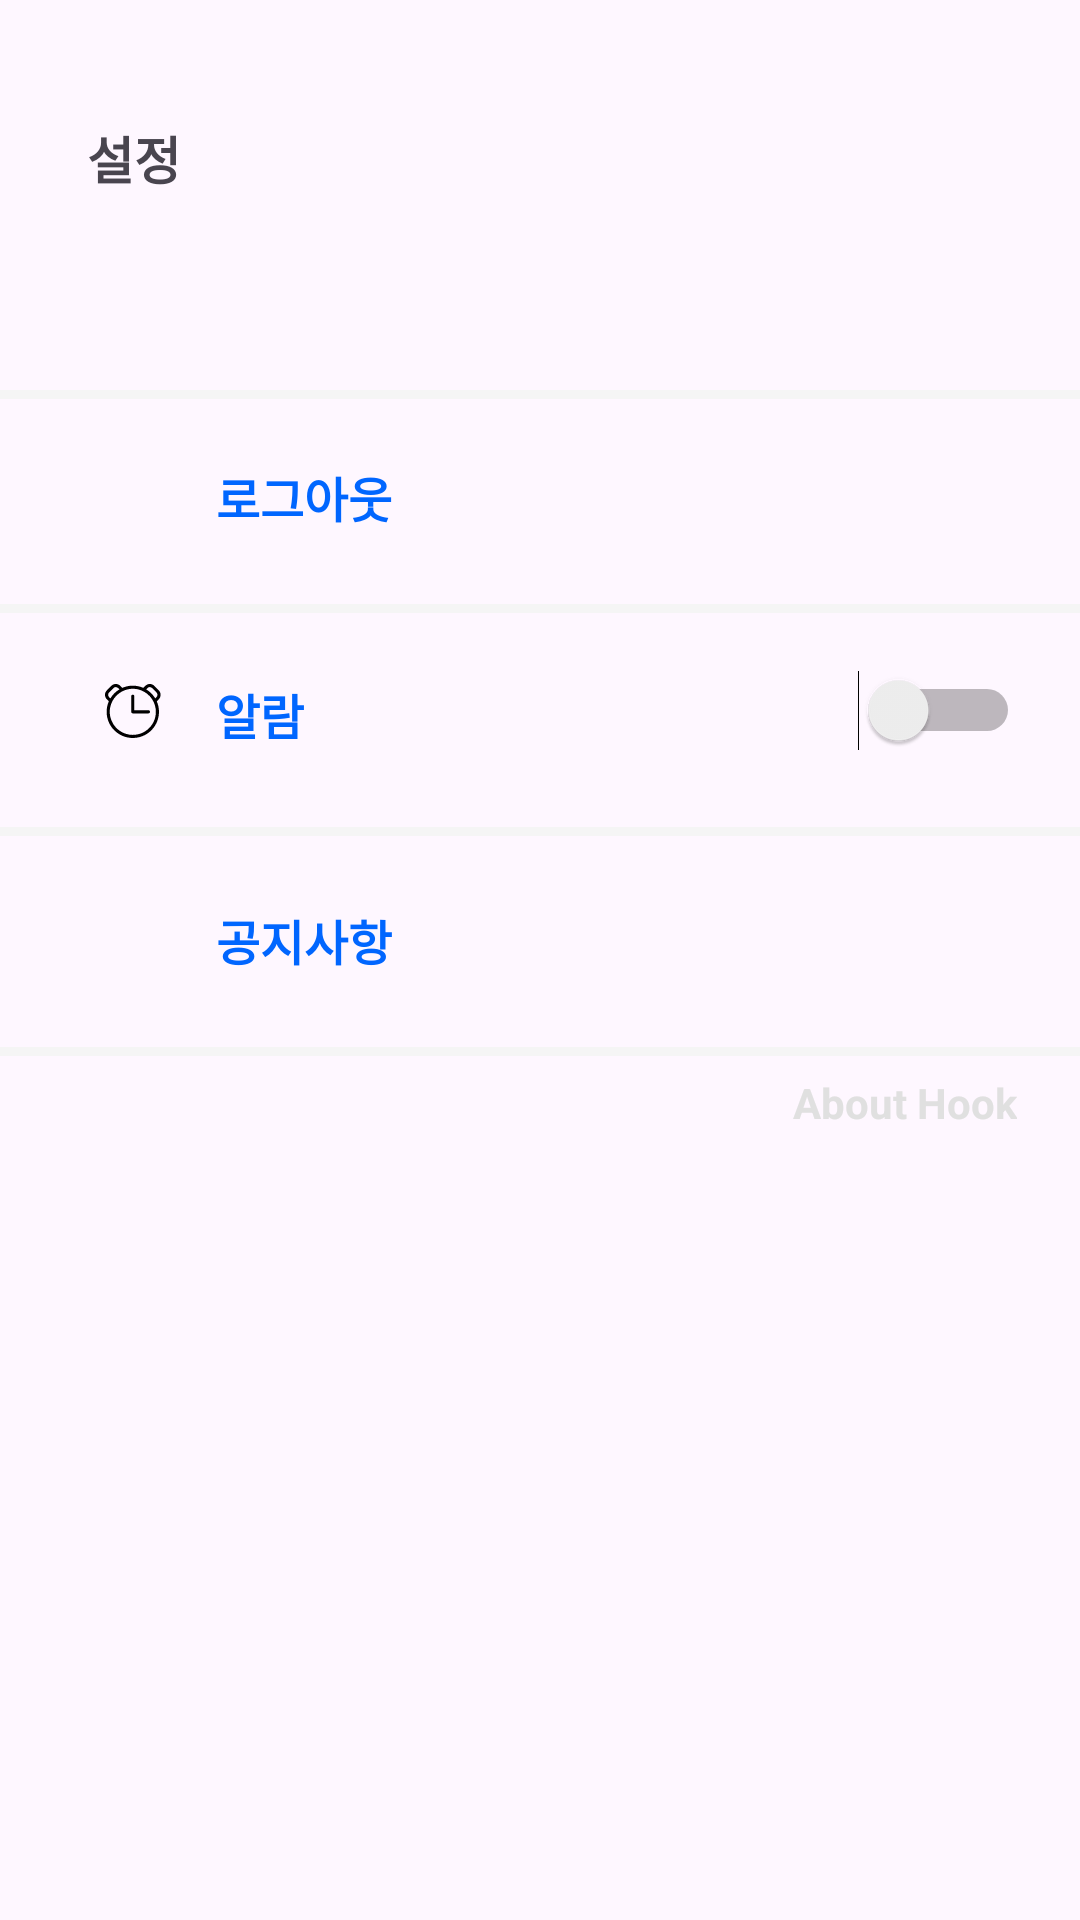

Locate icon controls on the screen. Image size 1080×1920, boxes as (x1=x1, y1=y1, x2=x2, y2=y2).
alarm: (x1=105, y1=684, x2=161, y2=738)
